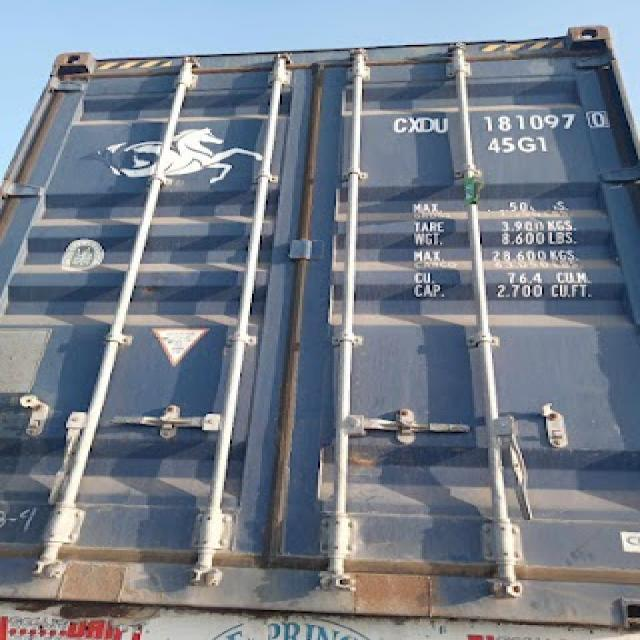ISO: (486, 136, 548, 155)
container_number: (396, 112, 600, 136)
